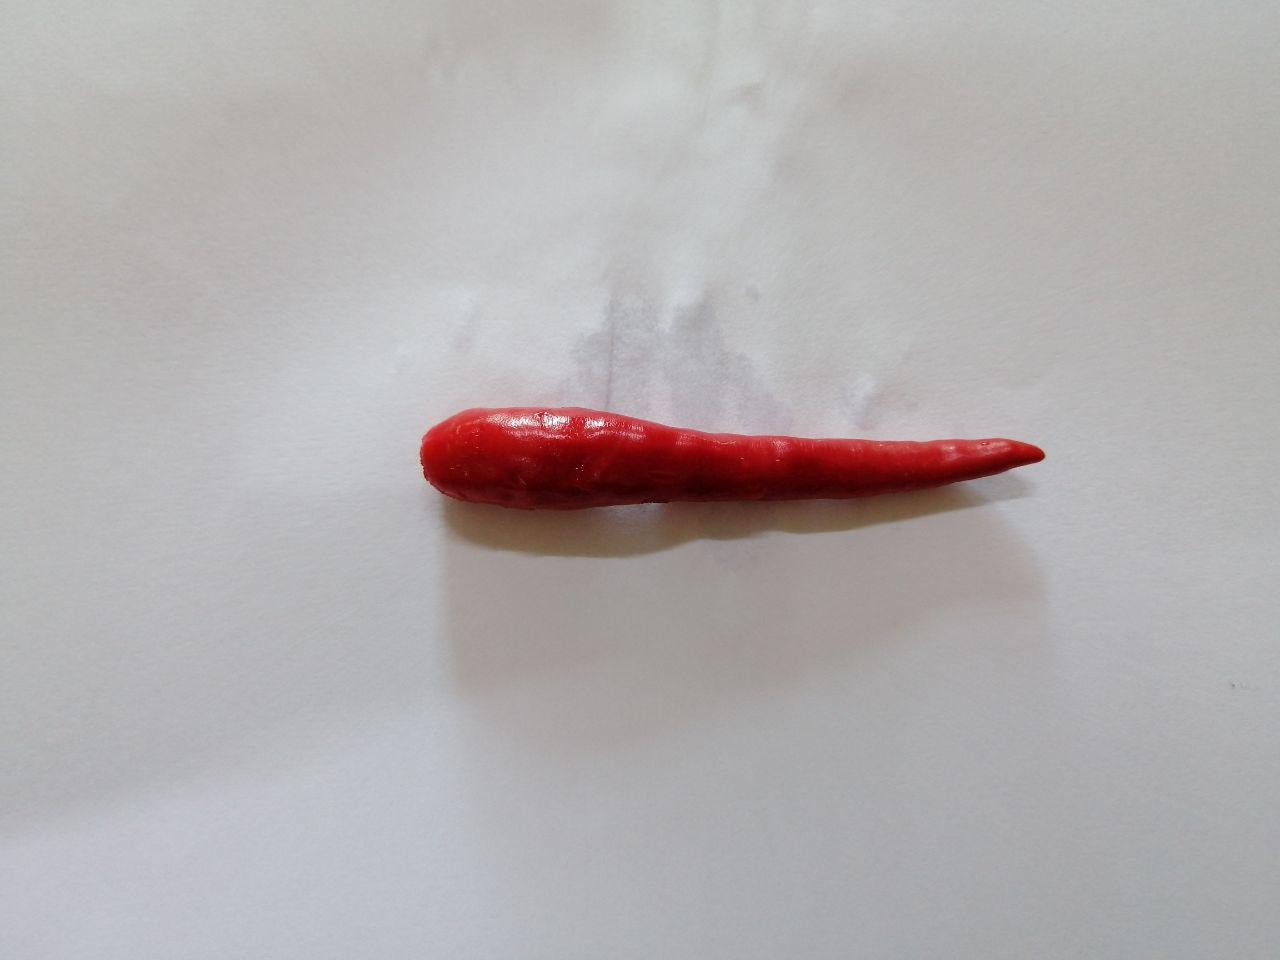lada merah: (399, 390, 1084, 544)
